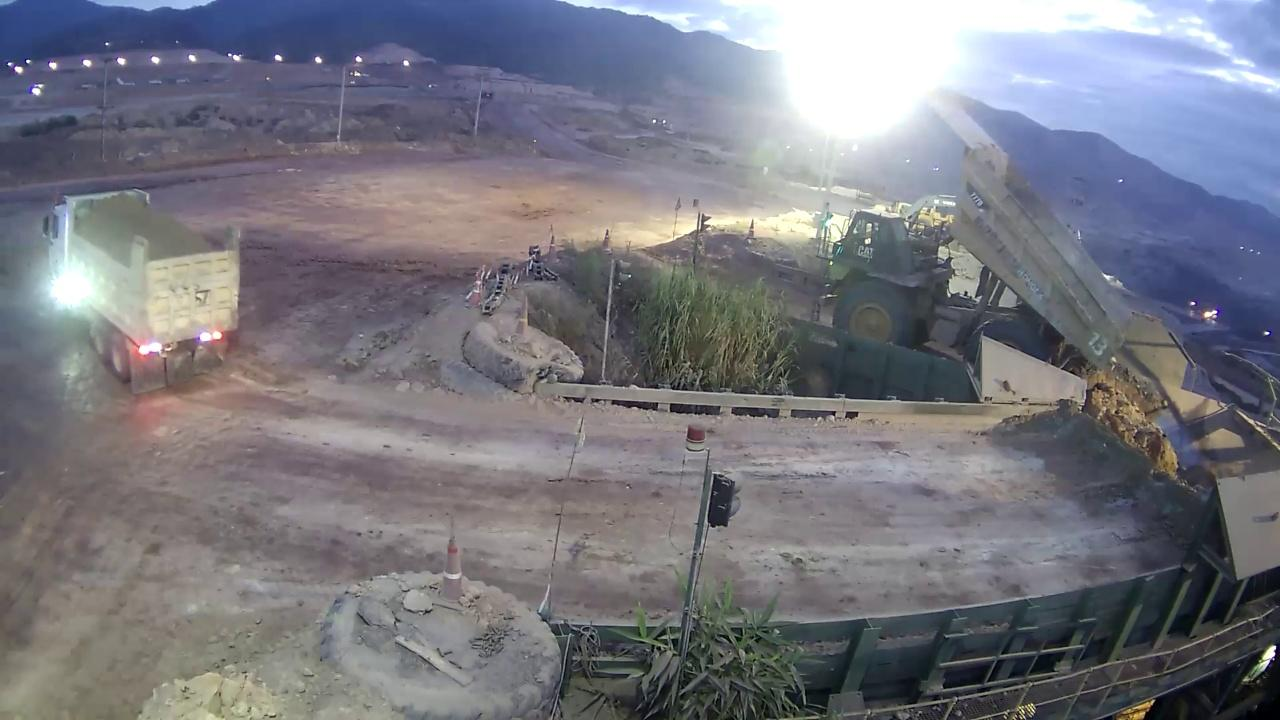dumping_soil: (826, 87, 1148, 386)
tail_number: (1082, 323, 1111, 361)
